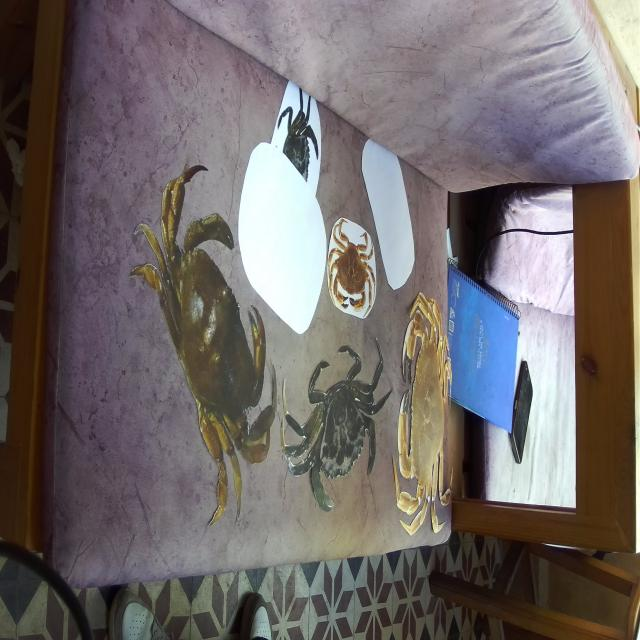European_Green_Crab: (270, 323, 408, 531), (263, 71, 330, 226)
